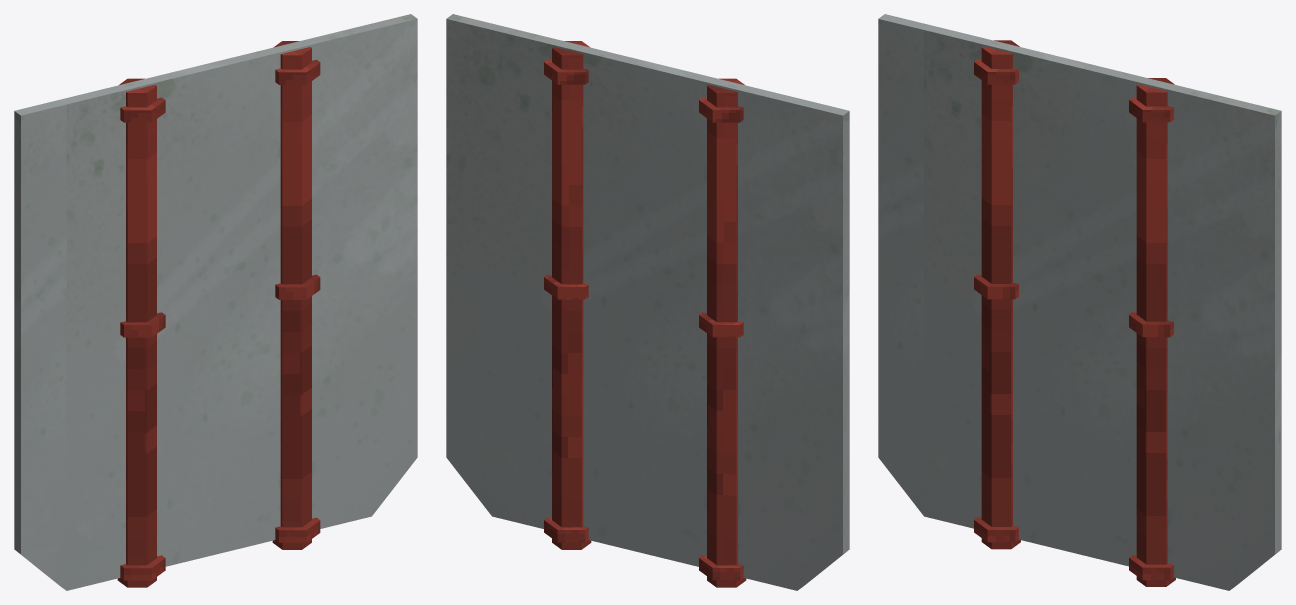
File: door-large.glb
The picture shows the model from 3 angles, left to right: view 1: azimuth 30°, elevation 25°; view 2: azimuth 150°, elevation 25°; view 3: azimuth 330°, elevation 25°; orthographic projection.
Parts seen in each view (by area): view 1: door-large-col; view 2: door-large-col; view 3: door-large-col.
Part boxes in pixels (x1,y1,x2,y2): door-large-col: (14, 14, 417, 590); door-large-col: (446, 14, 849, 590); door-large-col: (878, 14, 1281, 590).
Bounding box in the file's own units: 2.6 × 3.11 × 0.3132.
2 materials, 2 textured.
